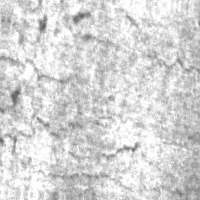crazing: (0, 90, 191, 194), (1, 0, 122, 89), (66, 9, 200, 75)
